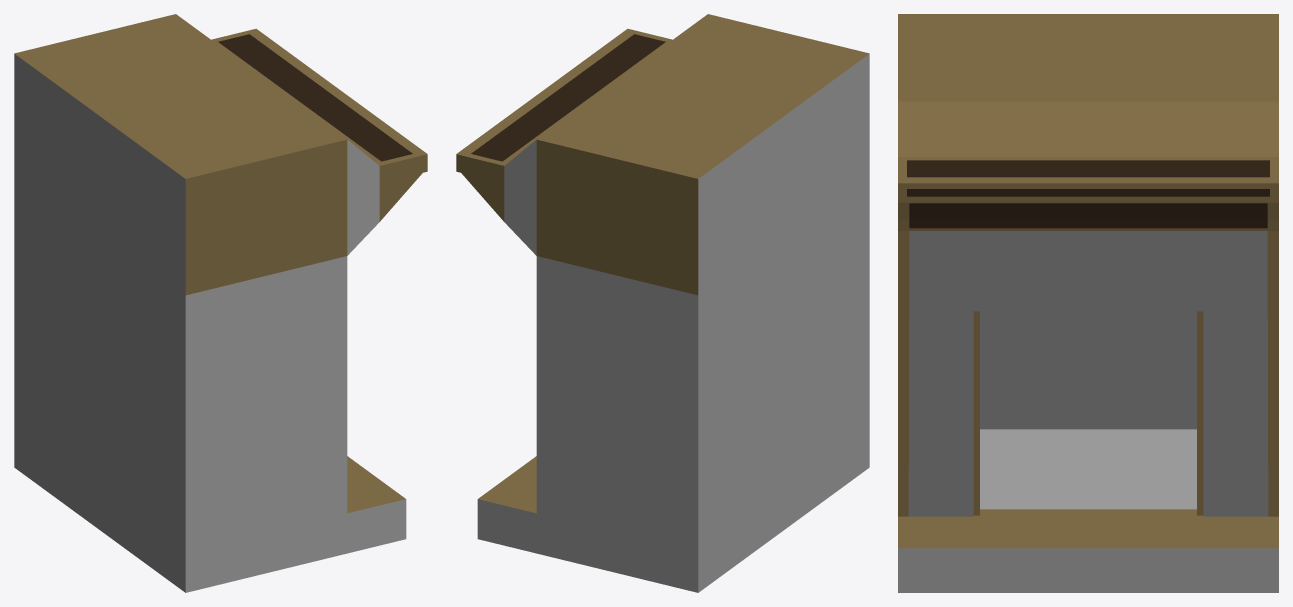
Rendered from misk_firePlace.fbx.
3 views of the same model, side by side, from view 1: azimuth 30°, elevation 25°; view 2: azimuth 150°, elevation 25°; view 3: azimuth 270°, elevation 25° (orthographic). The views are drawn at different scales.
Parts seen in each view (by area): view 1: hearth_mesh; view 2: hearth_mesh; view 3: hearth_mesh.
Boxes of the visible parts, <box> form: hearth_mesh: <box>14,14,427,592</box>; hearth_mesh: <box>456,14,869,592</box>; hearth_mesh: <box>898,14,1278,592</box>.
Bounding box in the file's own units: 1.58 × 2.58 × 1.94.
